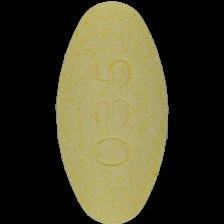76237-270: (0, 0, 224, 224)
